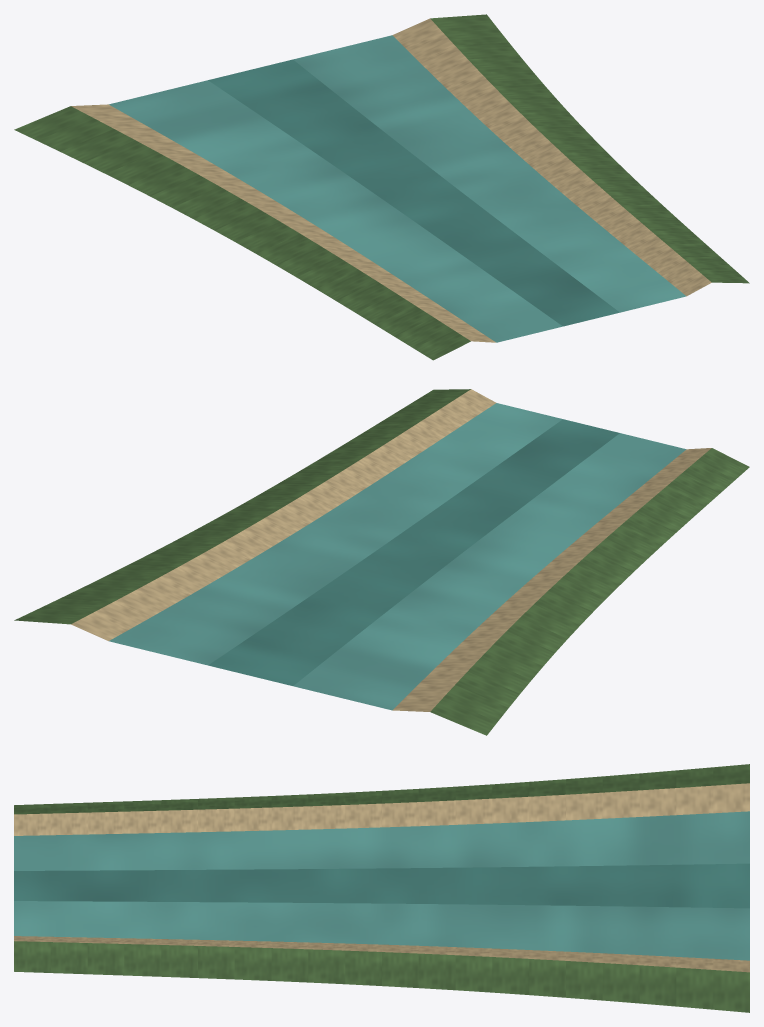
The model's file is river_delta_end.fbx.
3 renders of one model, top to bottom at view 1: azimuth 30°, elevation 25°; view 2: azimuth 150°, elevation 25°; view 3: azimuth 270°, elevation 25°, orthographic. The views are drawn at different scales.
Parts seen in each view (by area): view 1: river_delta_end; view 2: river_delta_end; view 3: river_delta_end.
Part boxes in pixels (x1,y1,x2,y2): river_delta_end: (14, 14, 749, 360); river_delta_end: (14, 389, 749, 735); river_delta_end: (14, 764, 749, 1012).
Bounding box in the file's own units: 2000 × 40 × 2500.
2 materials, 2 textured.
